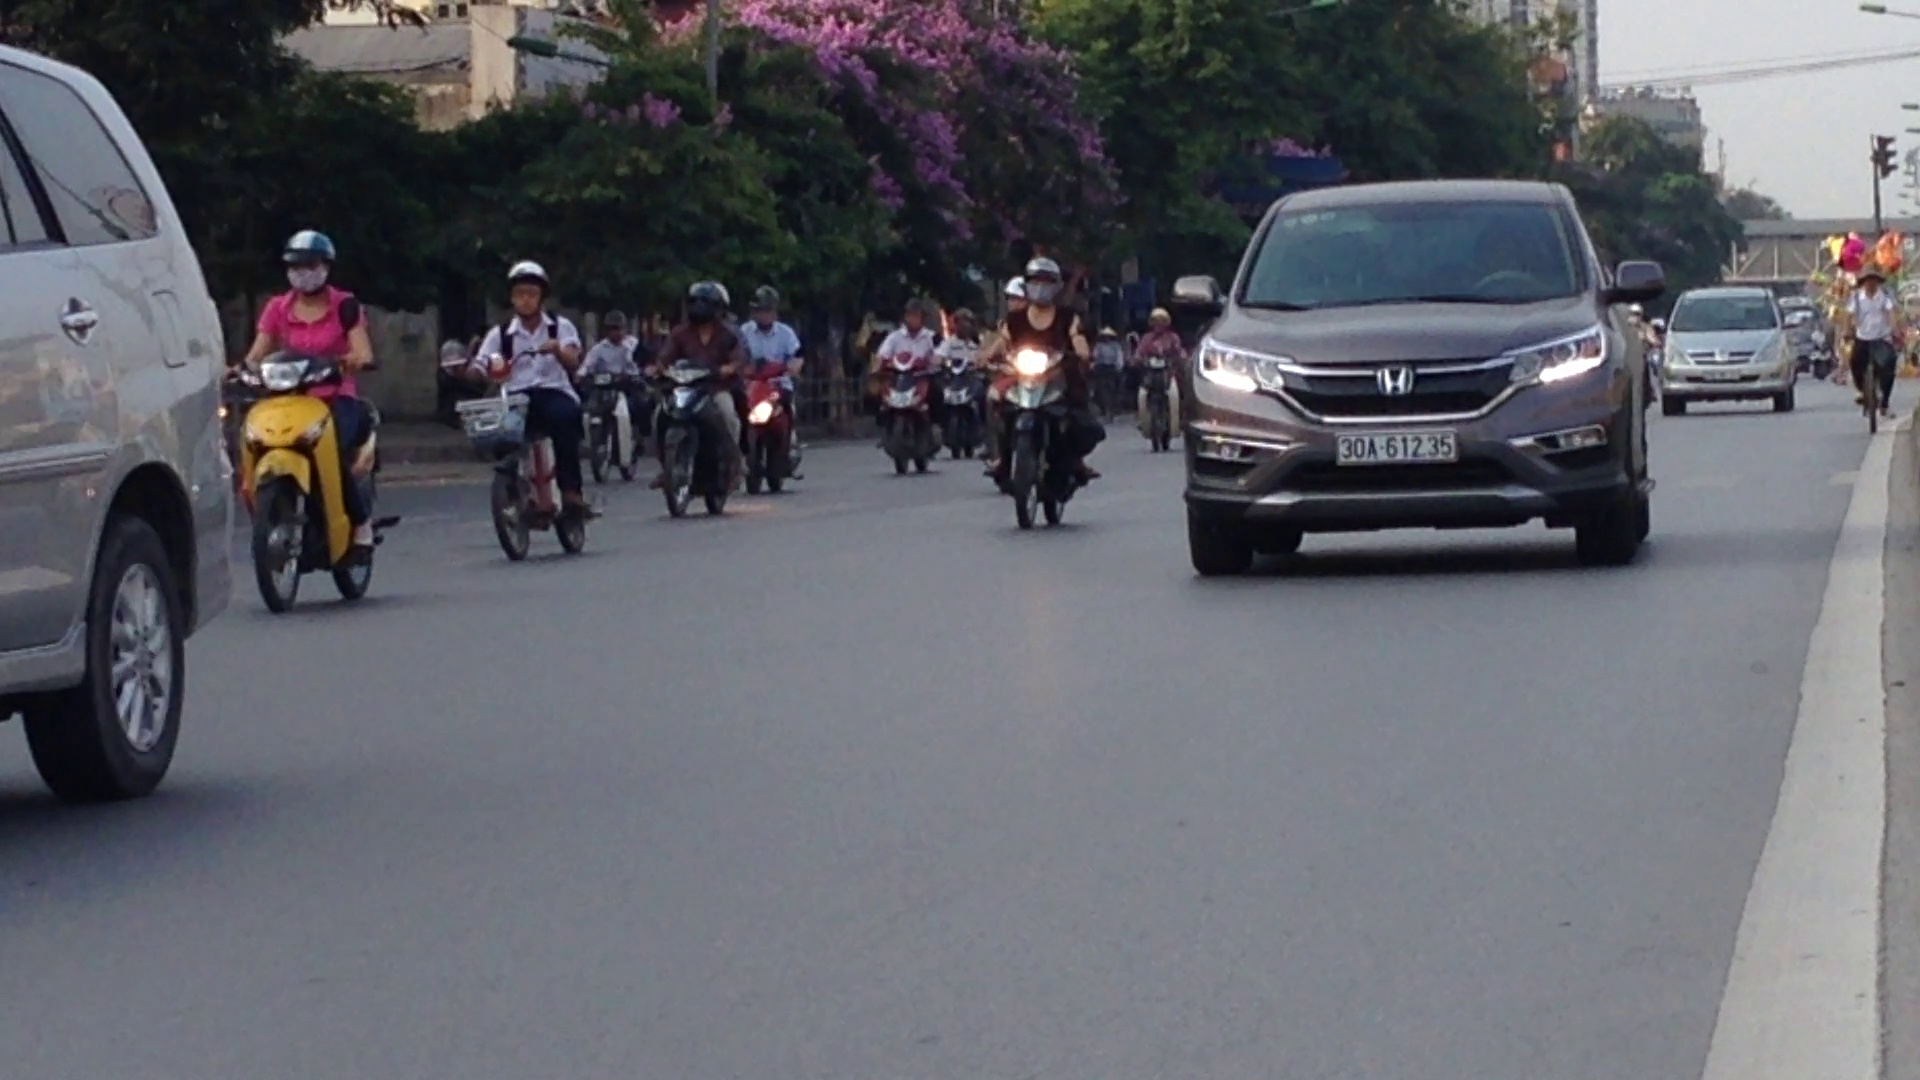vehicle-plate: (1332, 427, 1459, 464)
